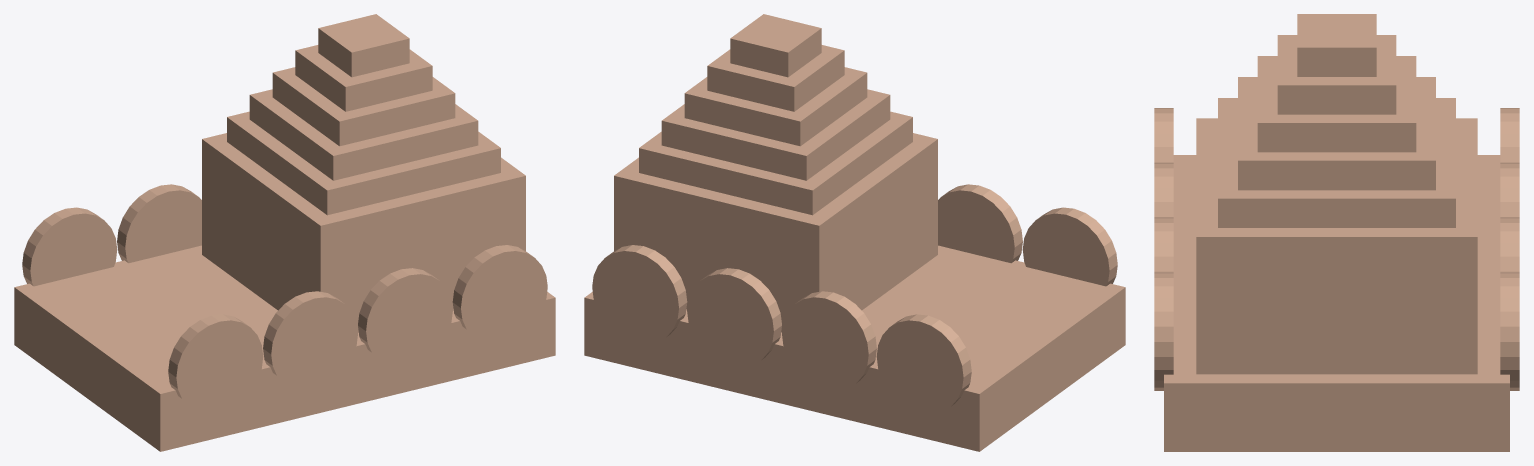
The model's file is sun_temple_s3.glb.
The picture shows the model from 3 angles, left to right: view 1: azimuth 30°, elevation 25°; view 2: azimuth 150°, elevation 25°; view 3: azimuth 270°, elevation 25°; orthographic projection. The views are drawn at different scales.
Parts seen in each view (by area): view 1: Cube, Cube.001, Cube.002, Cube.003, Cylinder.003, Cylinder, Cylinder.002, Cylinder.001, Cube.004, Cylinder.004, Cylinder.005, Cube.005 (+1 smaller); view 2: Cube, Cube.001, Cube.002, Cube.003, Cylinder.007, Cylinder.004, Cylinder.006, Cylinder.005, Cube.004, Cylinder, Cylinder.001, Cube.005 (+1 smaller); view 3: Cube.001, Cube, Cube.002, Cube.003, Cube.004, Cube.005, Cube.006, Cylinder.003, Cylinder.007, Cylinder.002, Cylinder.006, Cylinder (+3 smaller).
Part boxes in pixels (x1,y1,x2,y2): Cube: (14,245,555,451); Cube.001: (202,133,525,332); Cube.002: (227,111,500,215); Cube.003: (249,89,478,180); Cylinder.003: (452,245,547,344); Cylinder: (168,314,263,413); Cylinder.002: (358,268,452,367); Cylinder.001: (263,291,357,390); Cube.004: (272,67,455,146); Cylinder.004: (22,207,117,286); Cylinder.005: (117,184,201,263); Cube.005: (295,45,432,111); Cube: (584,245,1125,451); Cube.001: (614,133,937,332); Cube.002: (639,111,912,215); Cube.003: (661,89,890,180); Cylinder.007: (592,245,687,344); Cylinder.004: (876,314,971,413); Cylinder.006: (687,268,781,367); Cylinder.005: (782,291,876,390); Cube.004: (684,67,867,146); Cylinder: (1022,207,1117,286); Cylinder.001: (938,184,1022,263); Cube.005: (707,45,844,111); Cube.001: (1196,118,1477,374); Cube: (1164,155,1509,451); Cube.002: (1218,98,1455,227); Cube.003: (1238,77,1435,190); Cube.004: (1257,56,1416,152); Cube.005: (1277,35,1396,114); Cube.006: (1297,14,1376,76); Cylinder.003: (1154,272,1173,390); Cylinder.007: (1500,272,1519,390); Cylinder.002: (1154,217,1173,272); Cylinder.006: (1500,217,1519,272); Cylinder: (1154,108,1173,162).
Size of the model in its own units: 5 by 3.6 by 3.38.
